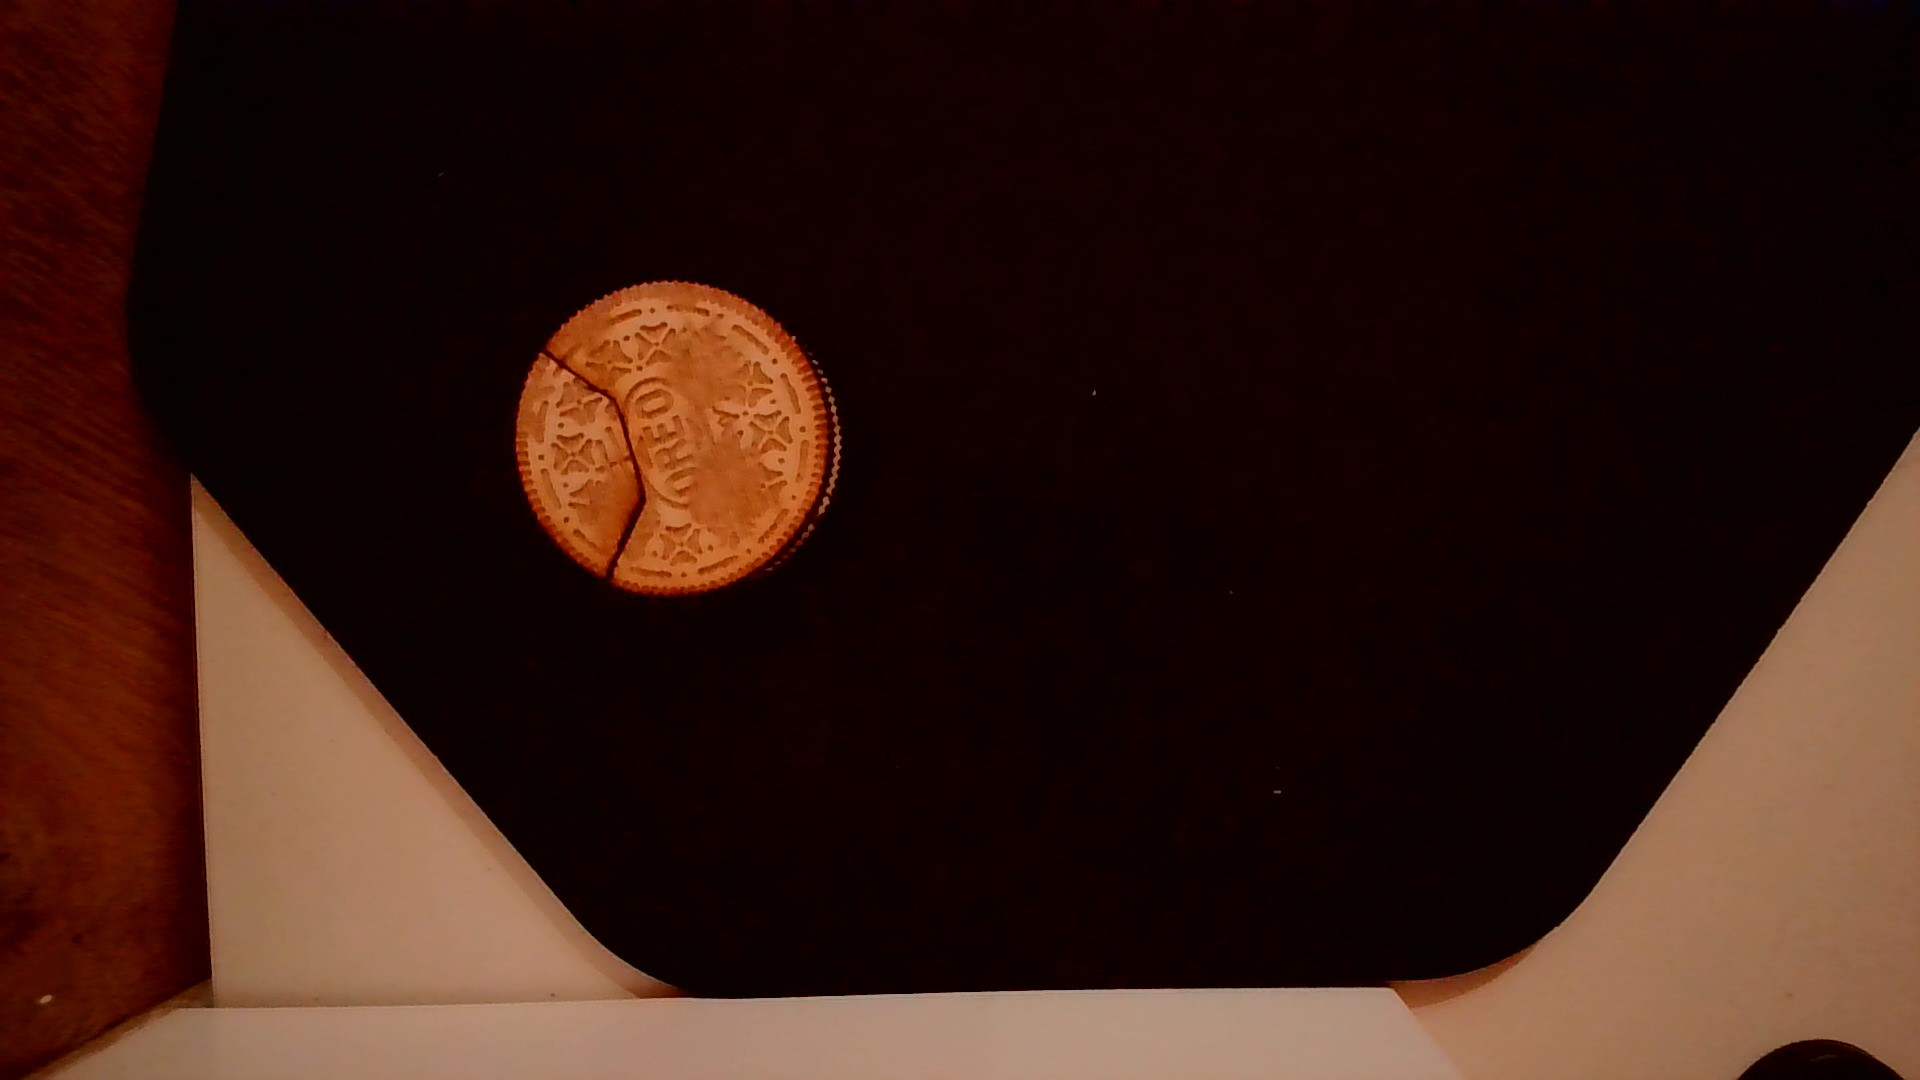Effacé: (682, 458, 774, 534), (669, 335, 756, 404), (563, 307, 630, 360)
Fissure: (526, 339, 653, 591)
Oréo: (506, 276, 849, 605)
